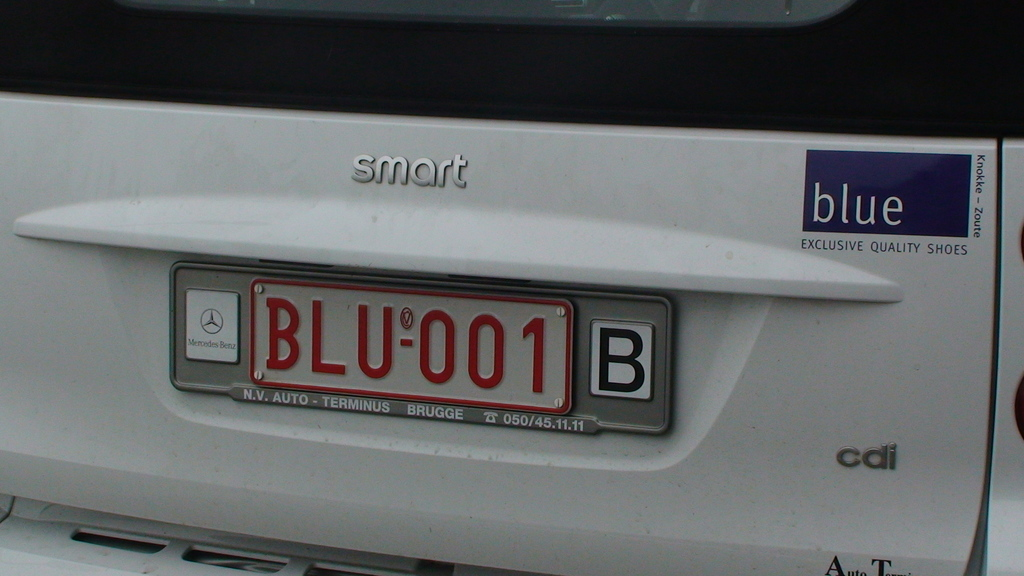license plate: (246, 282, 574, 412)
